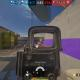Character: (38, 39, 44, 46)
Head: (40, 40, 41, 41)
